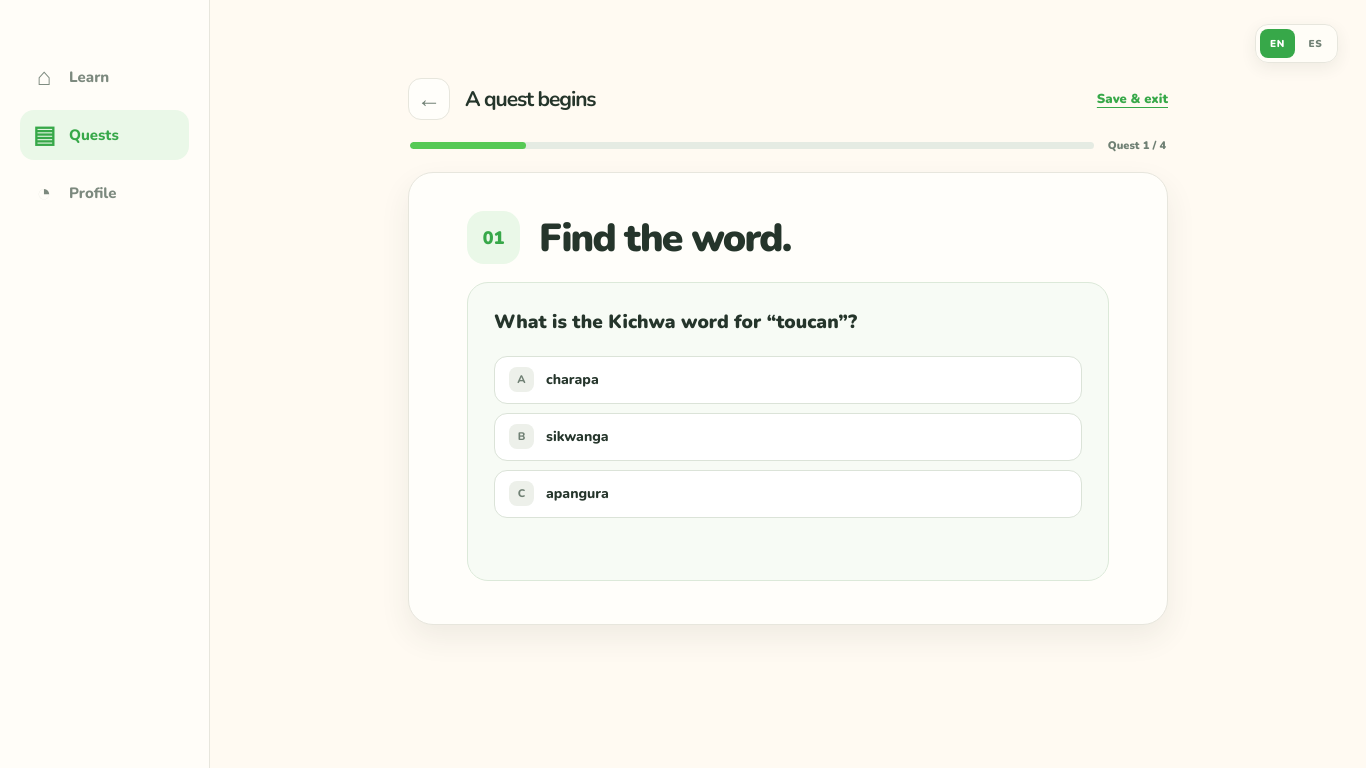
Test: switches language without losing quiz feedback or progress
The width and height of the screenshot is (1366, 768).
Click the button "B sikwanga" at (577, 437), box [494,413,1082,461]
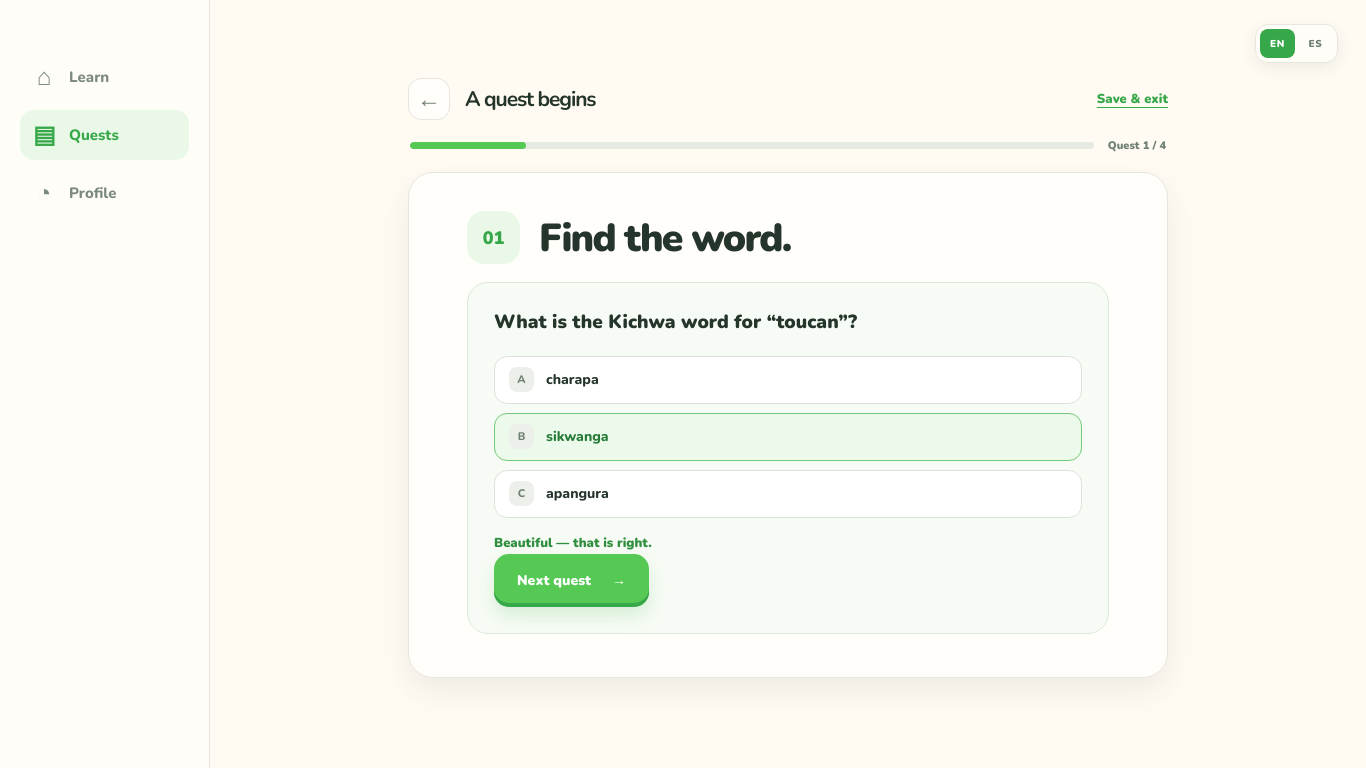
Click the button "ES" at (1316, 44), box [1298,29,1333,58]
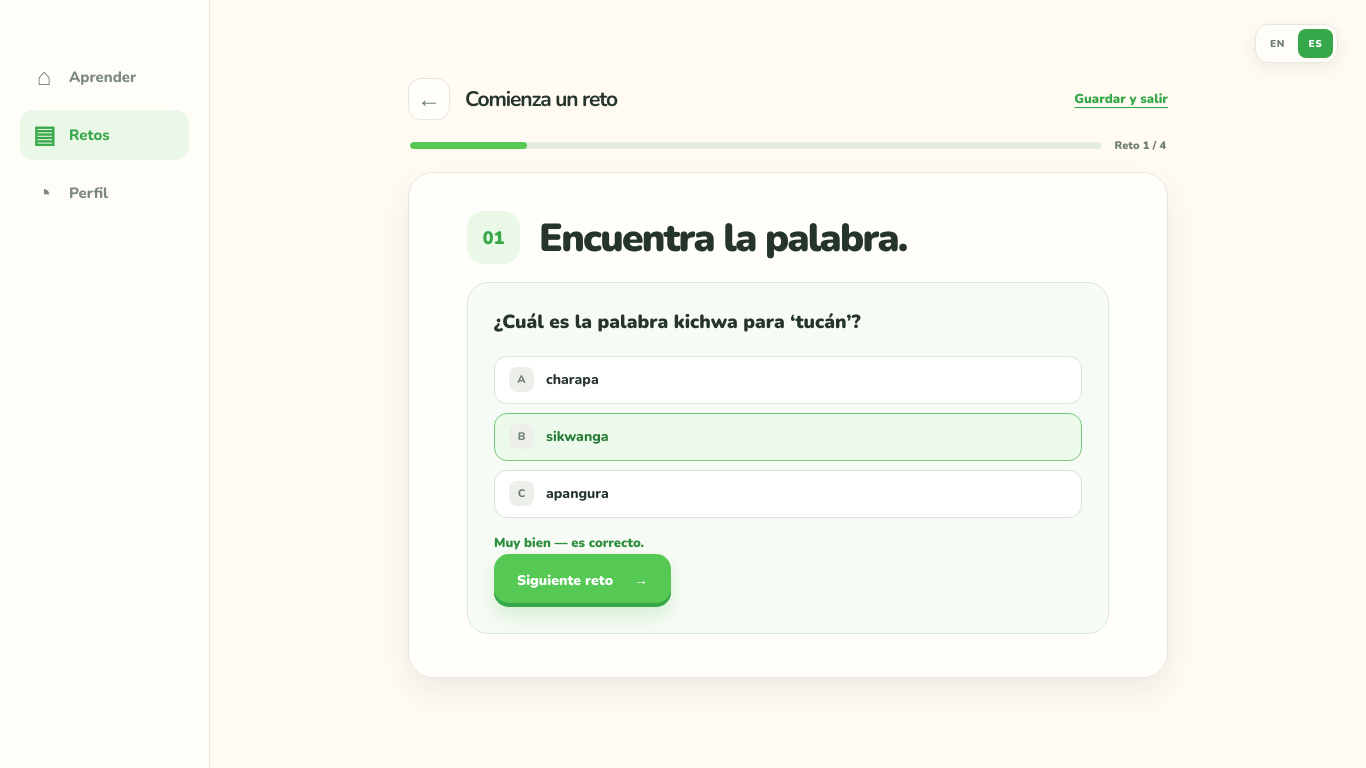
Expected: the button "B sikwanga" is disabled, [494,413,1082,461]
Expected: the text "Muy bien — es correcto." is shown, [494,534,644,552]
Click the button "Siguiente reto →" at (583, 580), box [494,554,671,607]
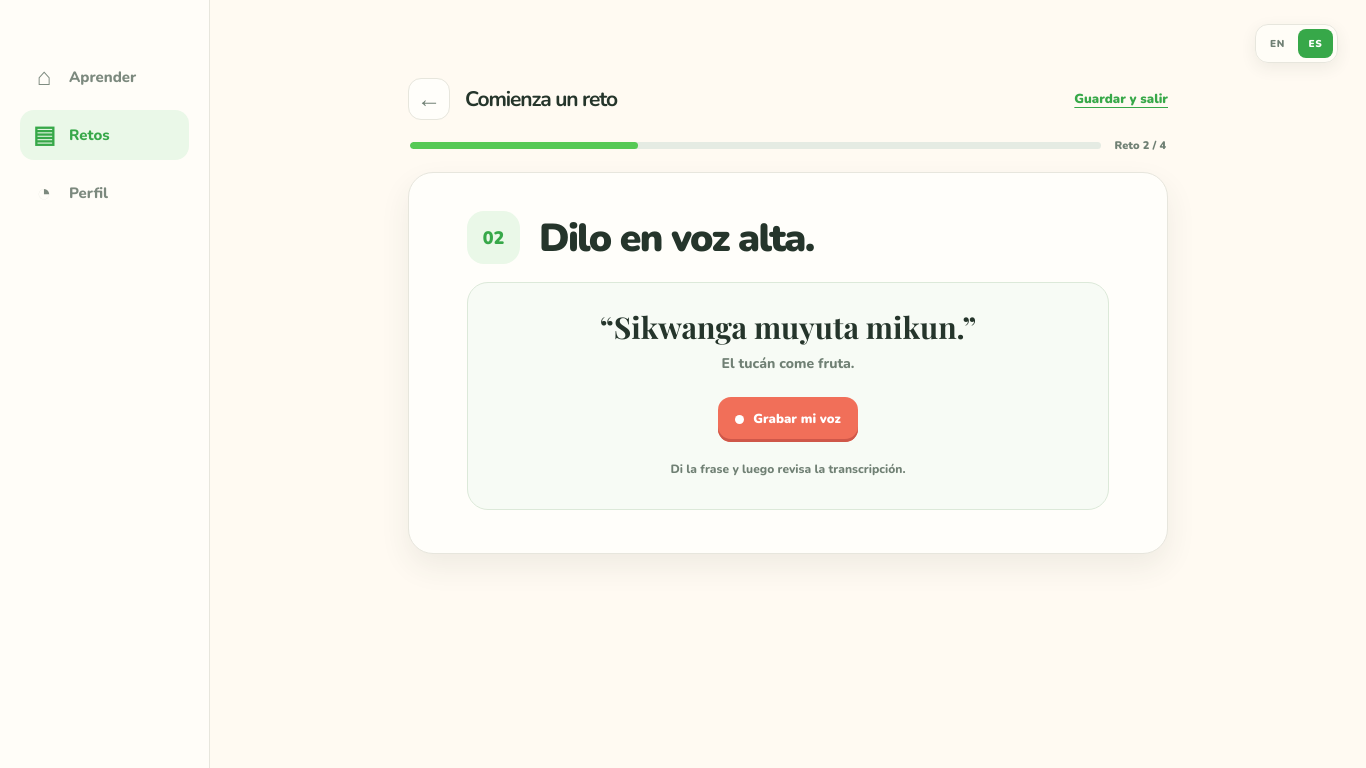
Expected: the heading "Dilo en voz alta." is shown, [539,218,814,260]
